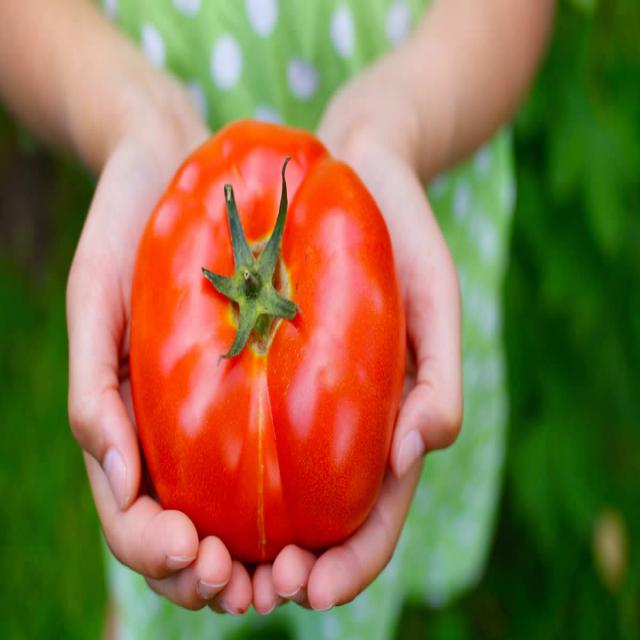tomato: (132, 122, 405, 563)
